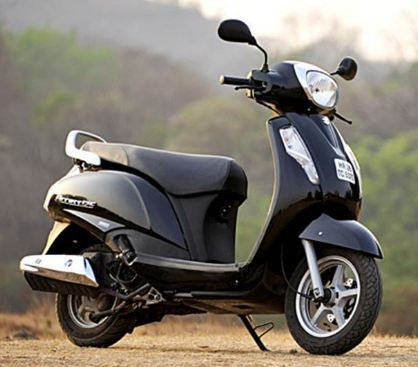bike: (23, 22, 385, 355)
